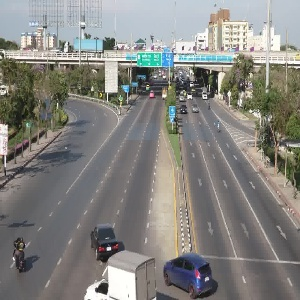car: (72, 221, 126, 255)
motorcycle: (6, 234, 37, 272)
suv: (162, 252, 217, 295)
